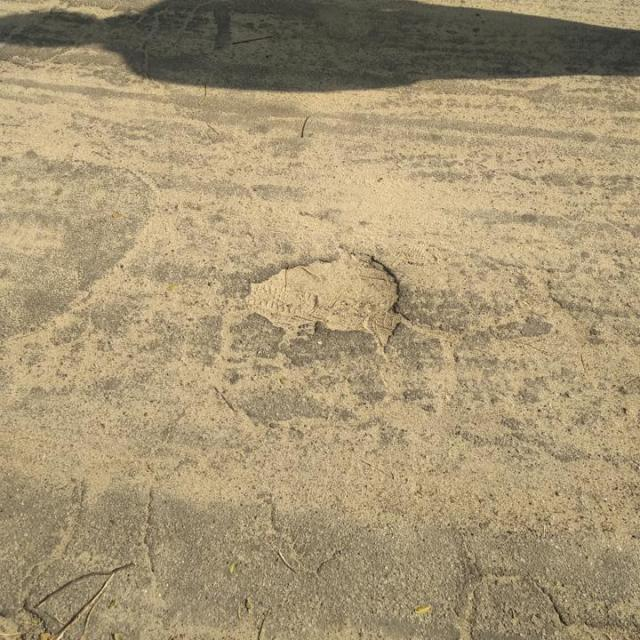Pothole: (243, 245, 410, 354)
